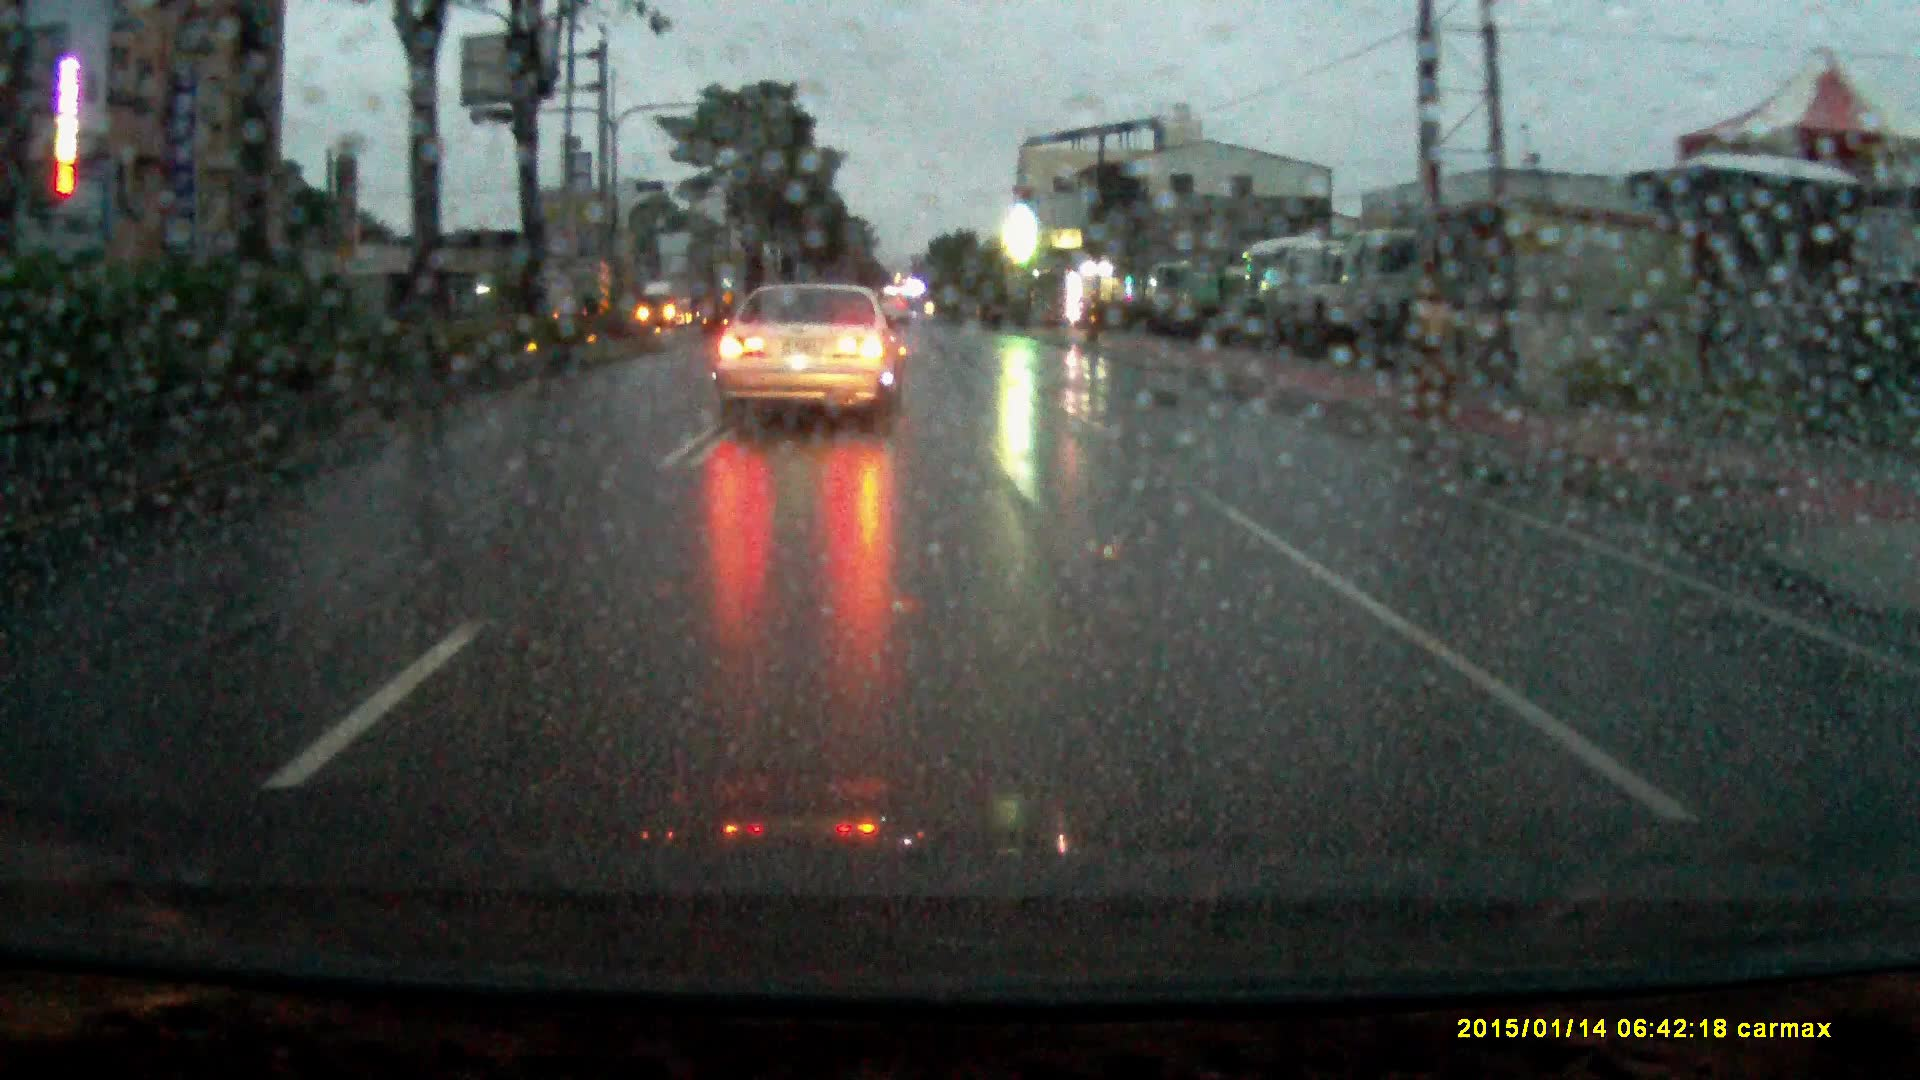vehicle: (713, 280, 911, 443), (1340, 232, 1447, 353), (1246, 241, 1336, 345), (1145, 264, 1203, 335), (1171, 269, 1244, 324), (644, 284, 694, 332)
